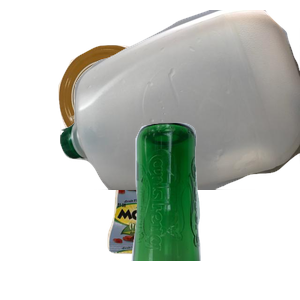glass: (129, 120, 300, 300)
metal: (56, 43, 211, 187)
plastic: (60, 10, 300, 190)
trash: (105, 152, 280, 300)
